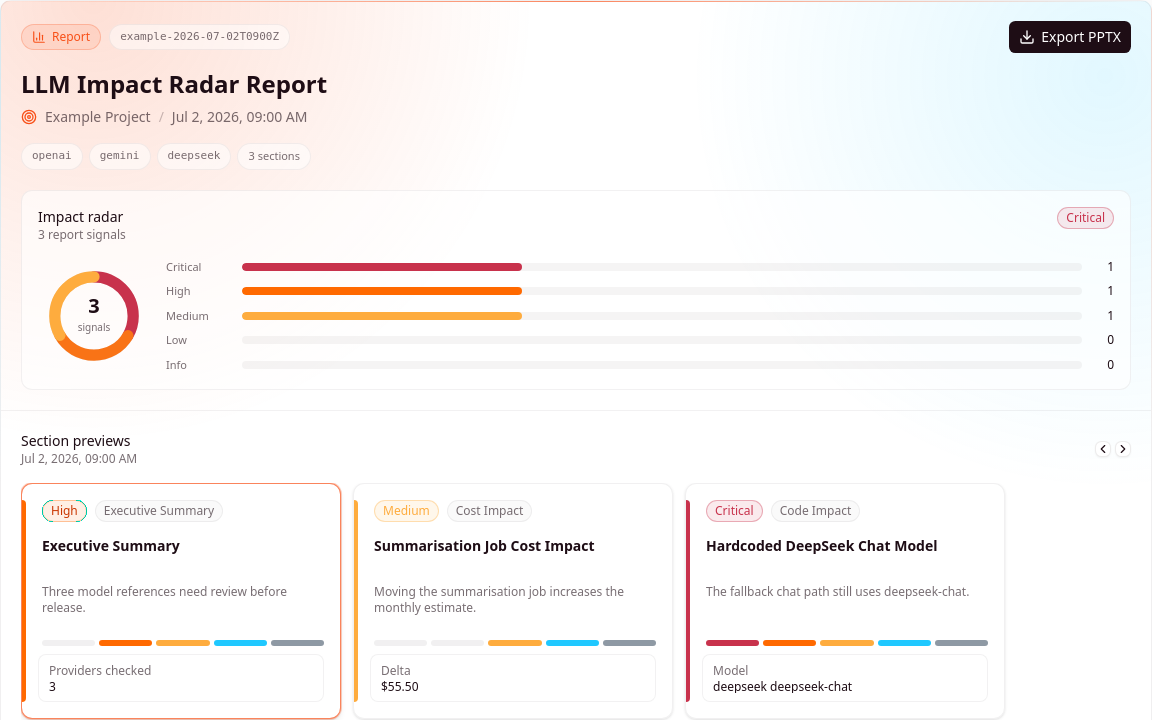
Test: ReportOutputView › switches focus to a selected section and shows cost visualisation
The width and height of the screenshot is (1152, 720).
Click the button "Summarisation Job Cost Impact" at (513, 601), box [353,483,673,719]
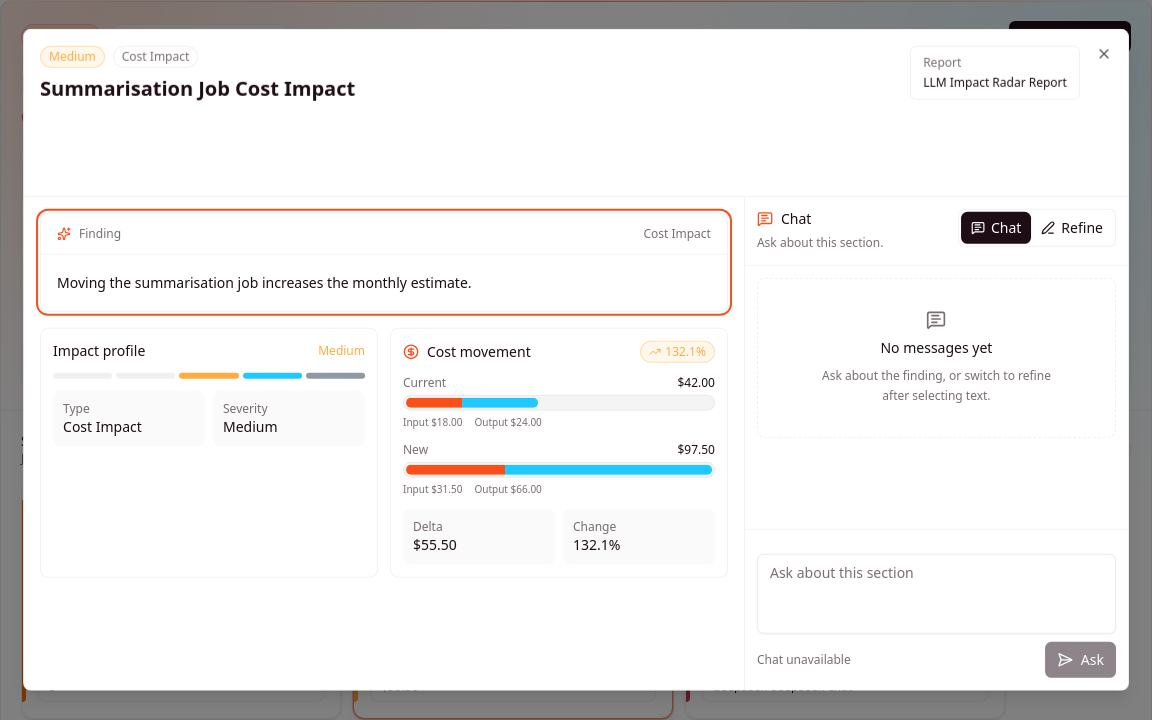
Result: the heading "Summarisation Job Cost Impact" is shown at [40,76,355,101]
Result: the heading "Cost movement" is shown at [427,342,531,362]
Result: the text "$42.00" is shown at [677,375,715,391]
